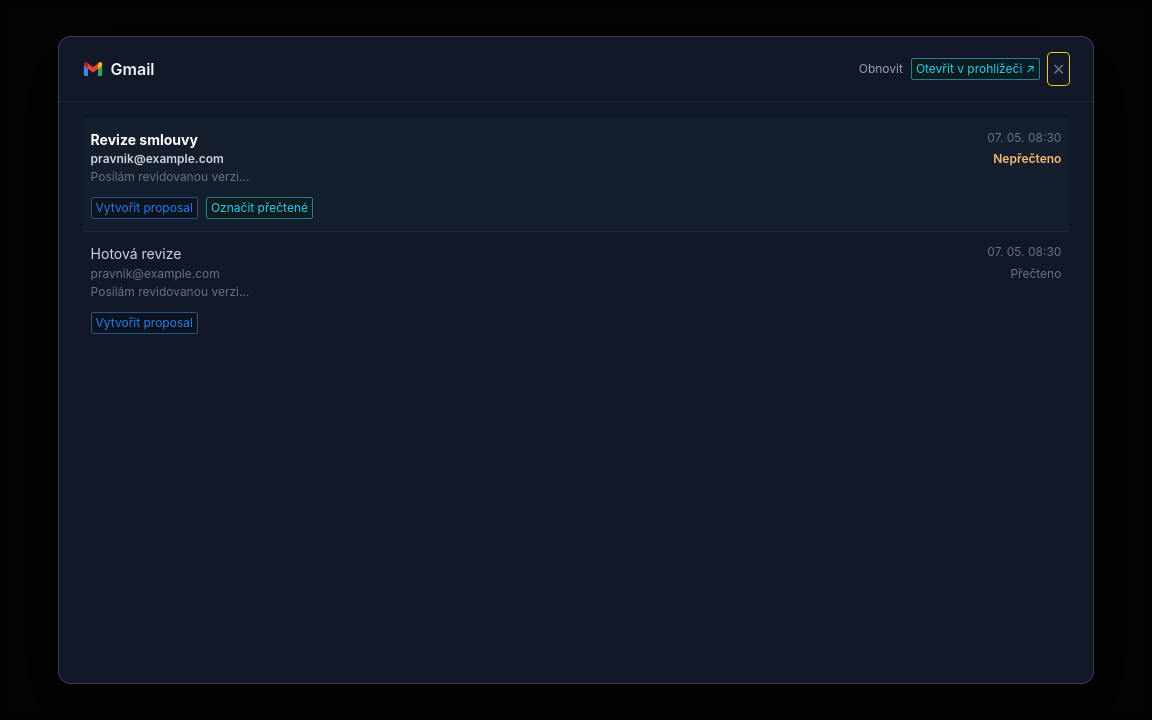
Test: SourcePreviewModal › distinguishes unread and read emails and expands the body on click
Expected: the text "Nepřečteno" is shown, [993, 151, 1061, 167]
Expected: the text "Přečteno" is shown, [1010, 266, 1061, 282]
What coordinates should you click on to do the following:
click the button "Revize smlouvy"
I would click on:
 (144, 140)
Its box is [83, 118, 1069, 197].
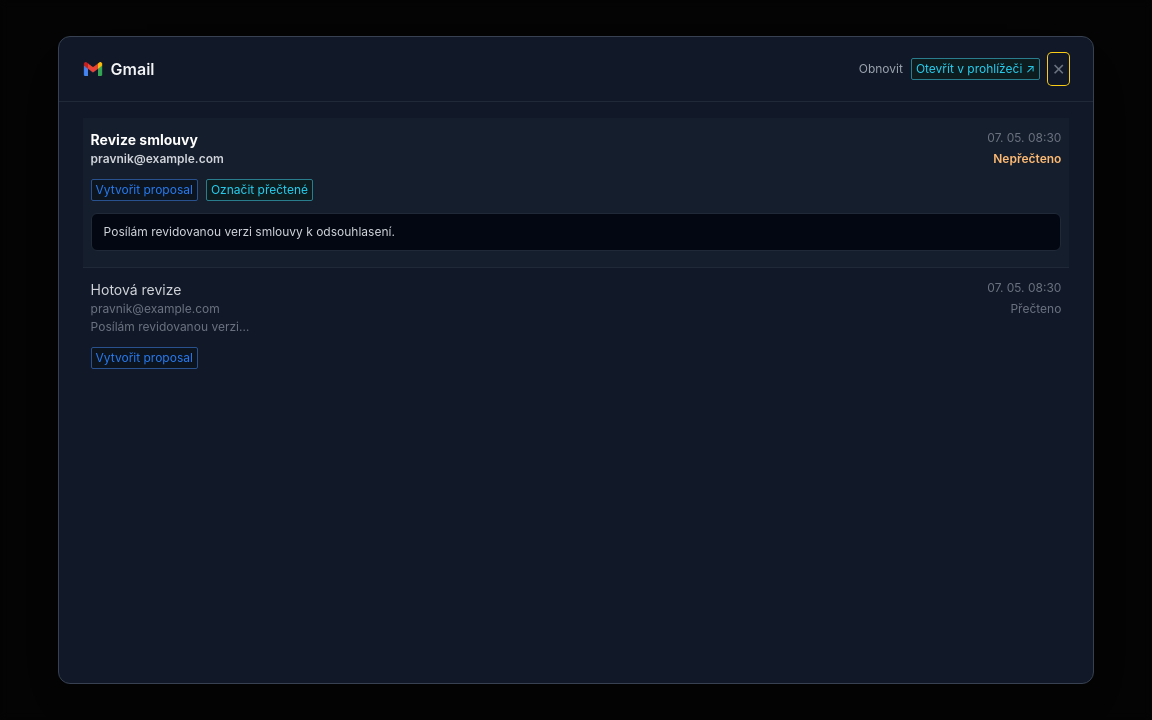
Expected: the text "Posílám revidovanou verzi smlouvy k odsouhlasení." is shown, [91, 213, 1061, 251]
